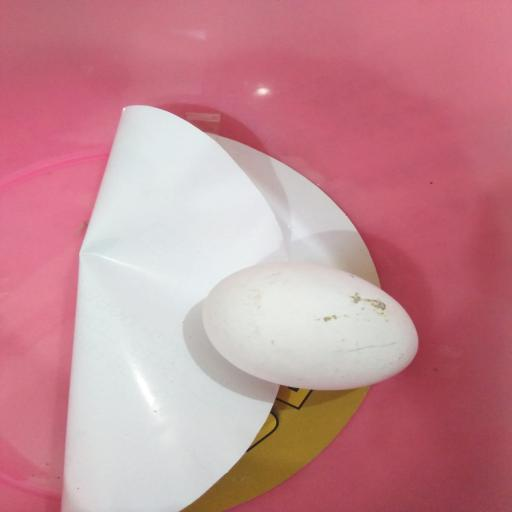telur: (198, 256, 425, 397)
